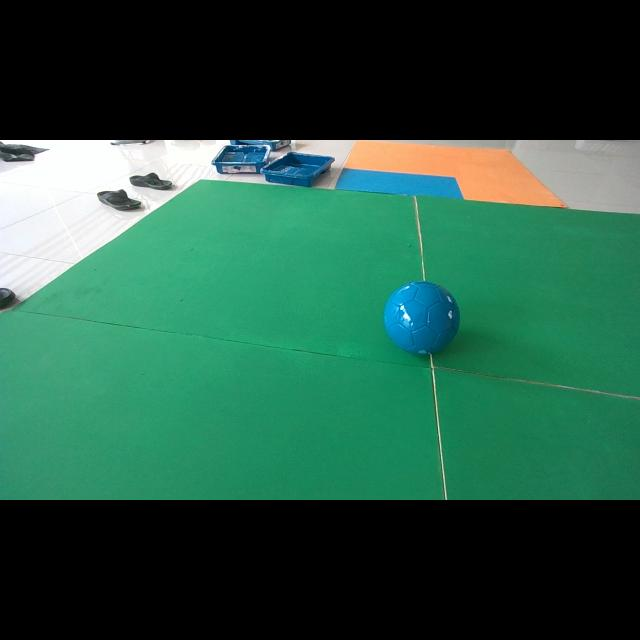B: (382, 281, 460, 356)
